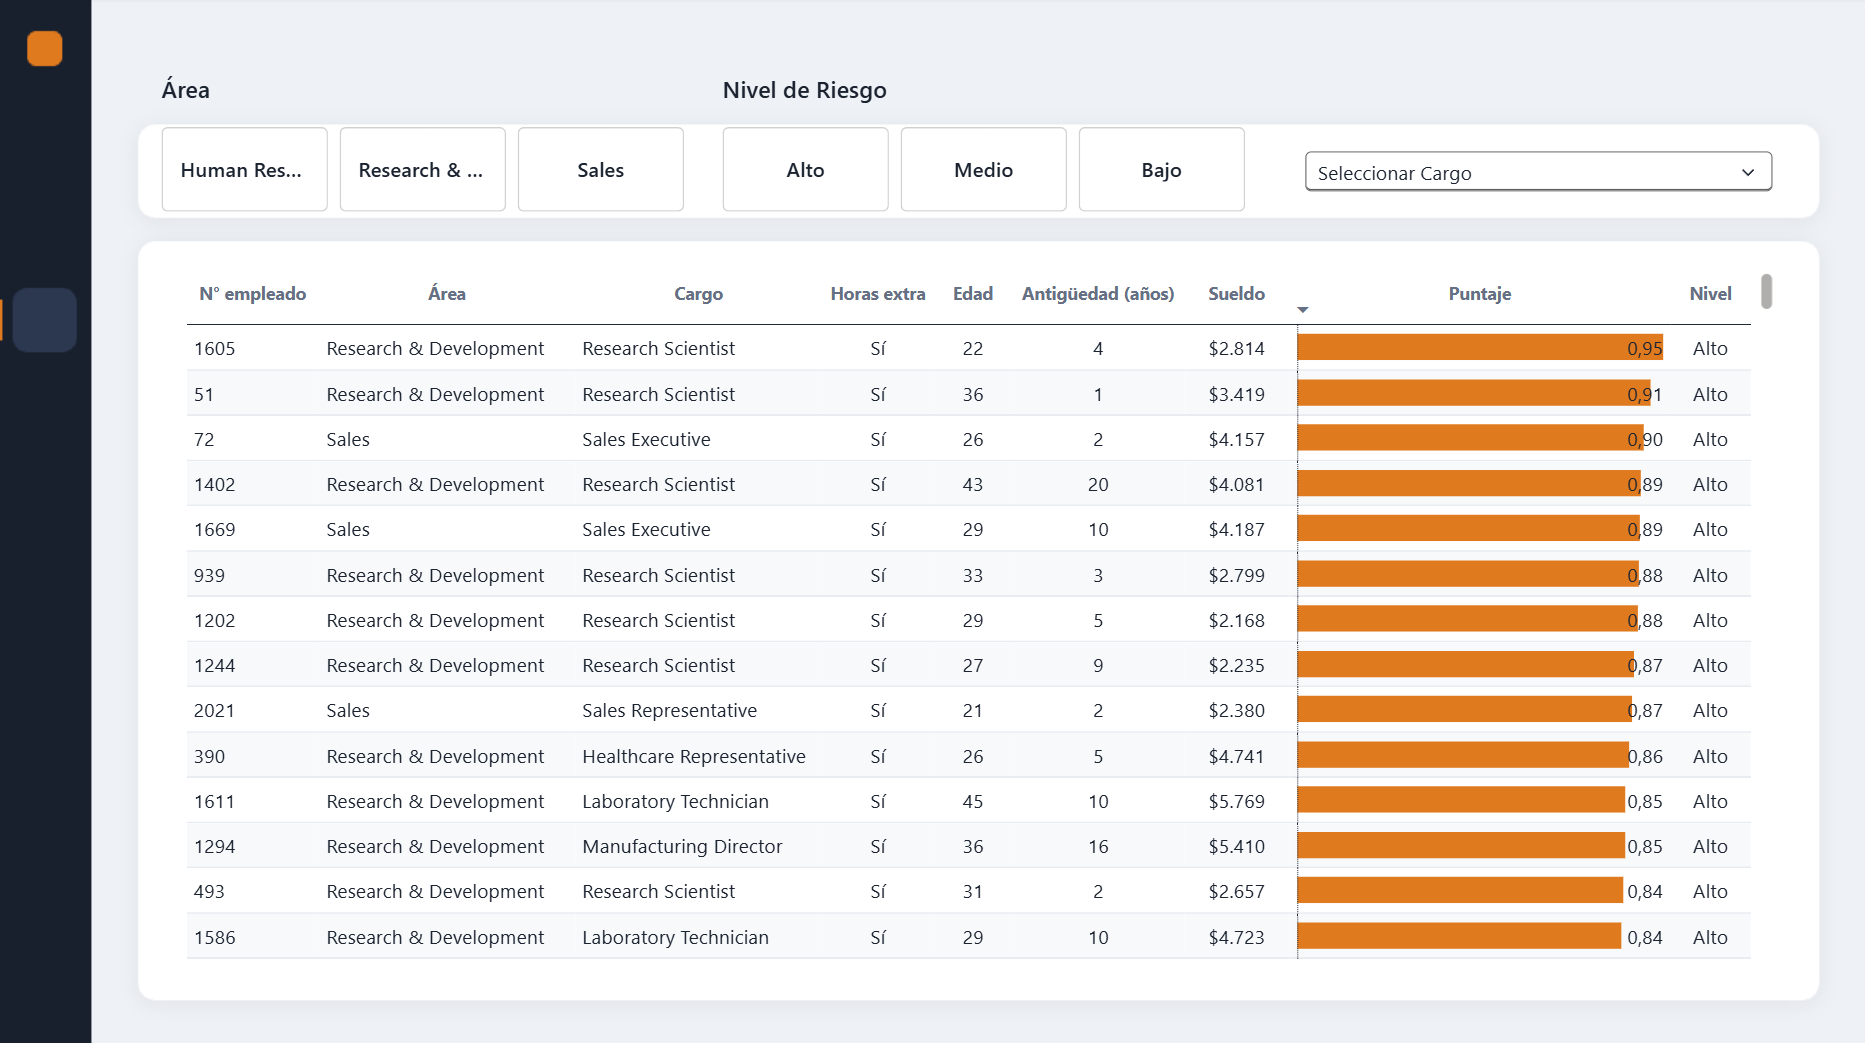

Layout of this report page (visuals, bound fields, positions):
{"tool":"powerbi","page":{"name":"Empleados en riesgo","canvas":[1280,720],"ordinal":2},"visuals":[{"type":"tableEx","fields":{"Values":["Riesgo de renuncia.EmployeeNumber","Empleados.Department","Empleados.JobRole","Empleados.OverTime","Empleados.Age","Empleados.YearsAtCompany","Empleados.MonthlyIncome","Riesgo de renuncia.puntaje_riesgo","Riesgo de renuncia.nivel_riesgo"]},"box":[112,176,1120,500],"z":0},{"type":"advancedSlicerVisual","fields":{"Values":["Empleados.Department"]},"box":[112.5,52.8,359.7,95.8],"z":1000},{"type":"advancedSlicerVisual","fields":{"Values":["Riesgo de renuncia.nivel_riesgo"]},"box":[495.8,52.8,359.7,95.8],"z":2000},{"type":"listSlicer","fields":{"Values":["Empleados.JobRole"]},"box":[880,92,352,56],"z":3000}]}

Visuals, with their boxes on the page's 1280x720 design canvas (x1, y1, x2, y2). These are canvas units, not pixel positions in the 1865x1043 screenshot, which may show the page scaled, cropped or inside an application window:
tableEx - Riesgo de renuncia.EmployeeNumber x Empleados.Department: 112:176:1232:676
advancedSlicerVisual - Empleados.Department: 112:53:472:149
advancedSlicerVisual - Riesgo de renuncia.nivel_riesgo: 496:53:856:149
listSlicer - Empleados.JobRole: 880:92:1232:148
